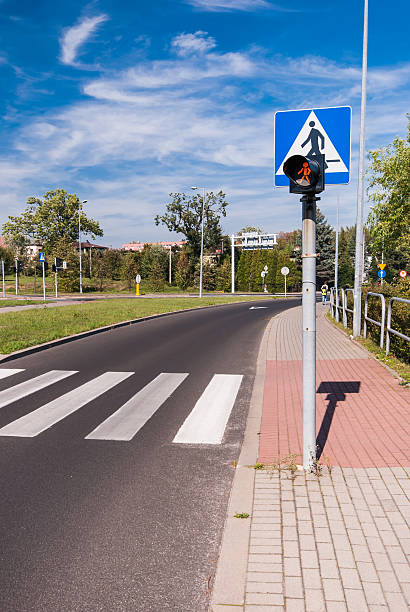yaya_gecidi: (273, 105, 354, 185)
